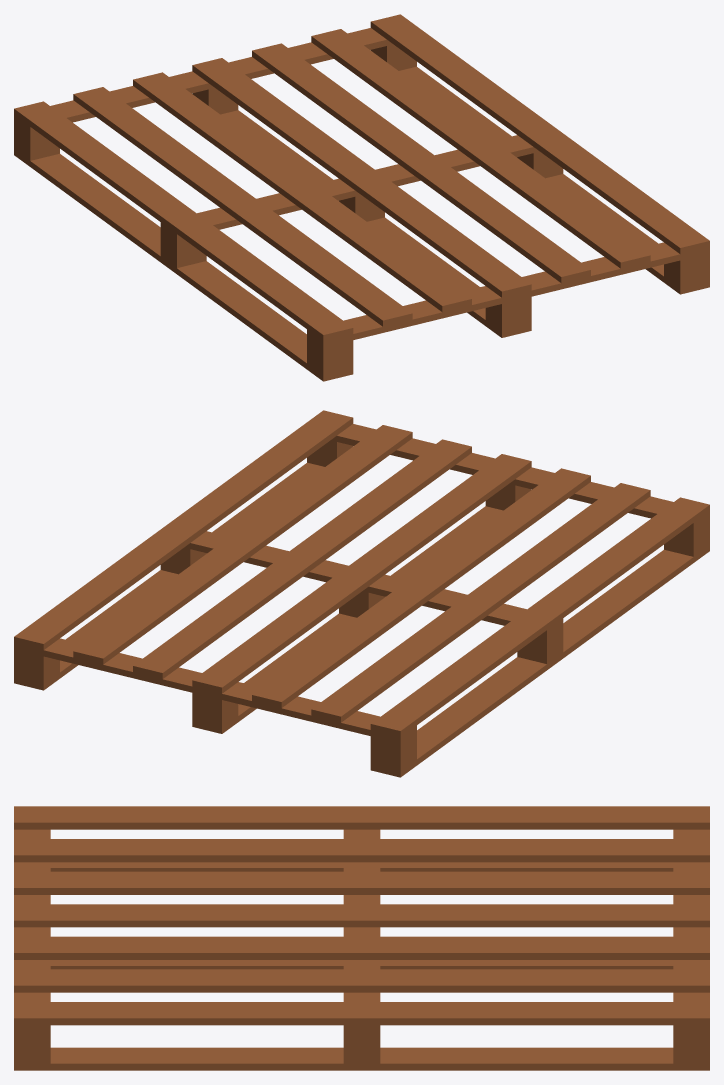
File: Wood_Palette.fbx
The picture shows the model from 3 angles, top to bottom: view 1: azimuth 30°, elevation 25°; view 2: azimuth 150°, elevation 25°; view 3: azimuth 270°, elevation 25°; orthographic projection. The views are drawn at different scales.
Visible parts, largest first — view 1: Cube; view 2: Cube; view 3: Cube.
Boxes of the visible parts, x1,y1,x2,y2 form: Cube: (14,14,709,381); Cube: (14,410,709,777); Cube: (14,806,709,1070).
Size of the model in its own units: 200 by 23 by 277.
